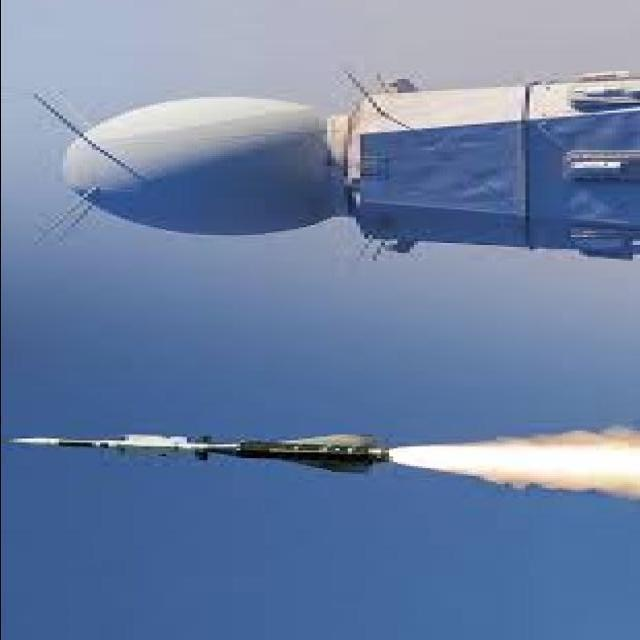missile: (9, 429, 392, 481)
